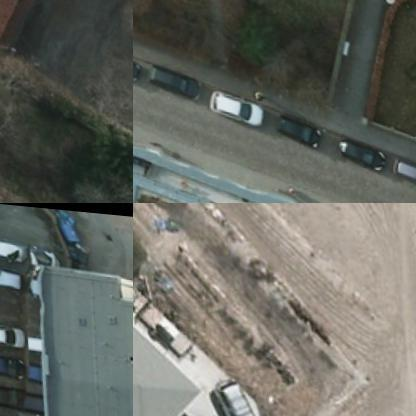car: (197, 369, 267, 415), (138, 61, 196, 106), (201, 85, 258, 126), (266, 107, 317, 144), (330, 131, 374, 168), (383, 151, 415, 185), (0, 320, 25, 349), (0, 384, 21, 415), (0, 261, 19, 292), (0, 353, 16, 379)
